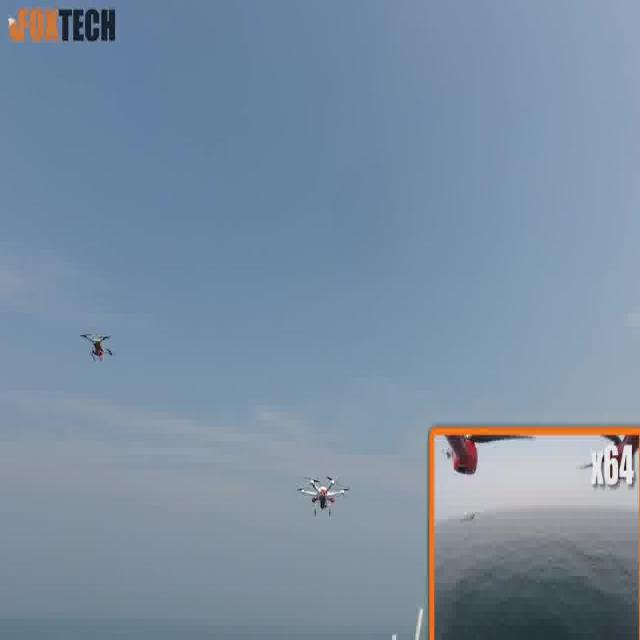drone: (296, 472, 350, 520), (78, 330, 115, 366)
